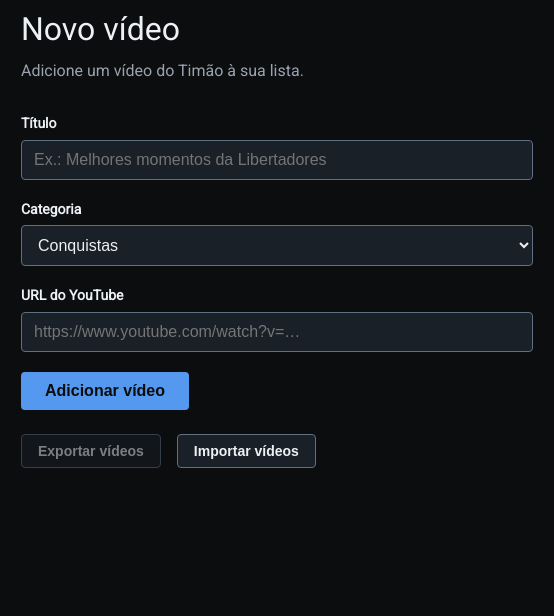
Test: adds a video to the list on submit
The width and height of the screenshot is (554, 616).
Type "Gols da final de 2012" into the field labelled "Título". click: [277, 160]
box: [21,140,533,180]
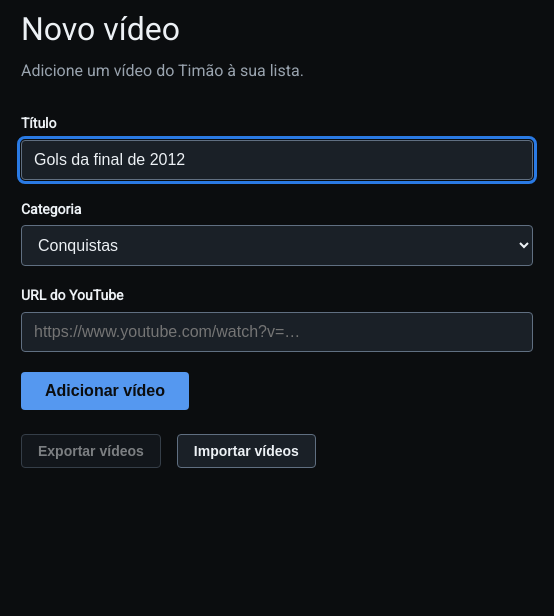
Type "https://www.youtube.com/watch?v=Bui2mO6AbxA" into the field labelled "URL do YouTube". click: [277, 332]
box: [21,312,533,352]
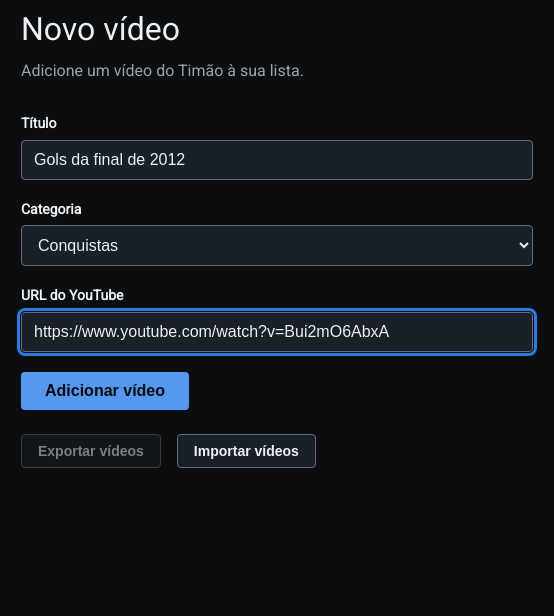
Click the button "Adicionar vídeo". click: [105, 391]
box: [21,372,189,410]
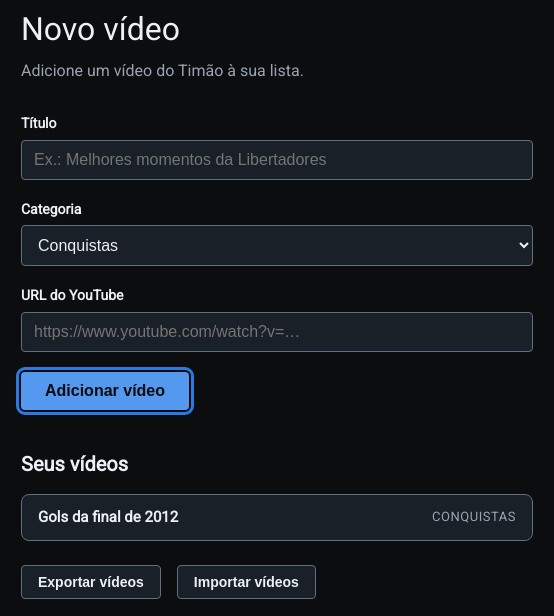
Expected: the text "Gols da final de 2012" is shown, [38,507,178,528]
Expected: the number of list items is 1, [21,494,533,541]
Expected: the heading "Seus vídeos" is shown, [21,452,128,476]
